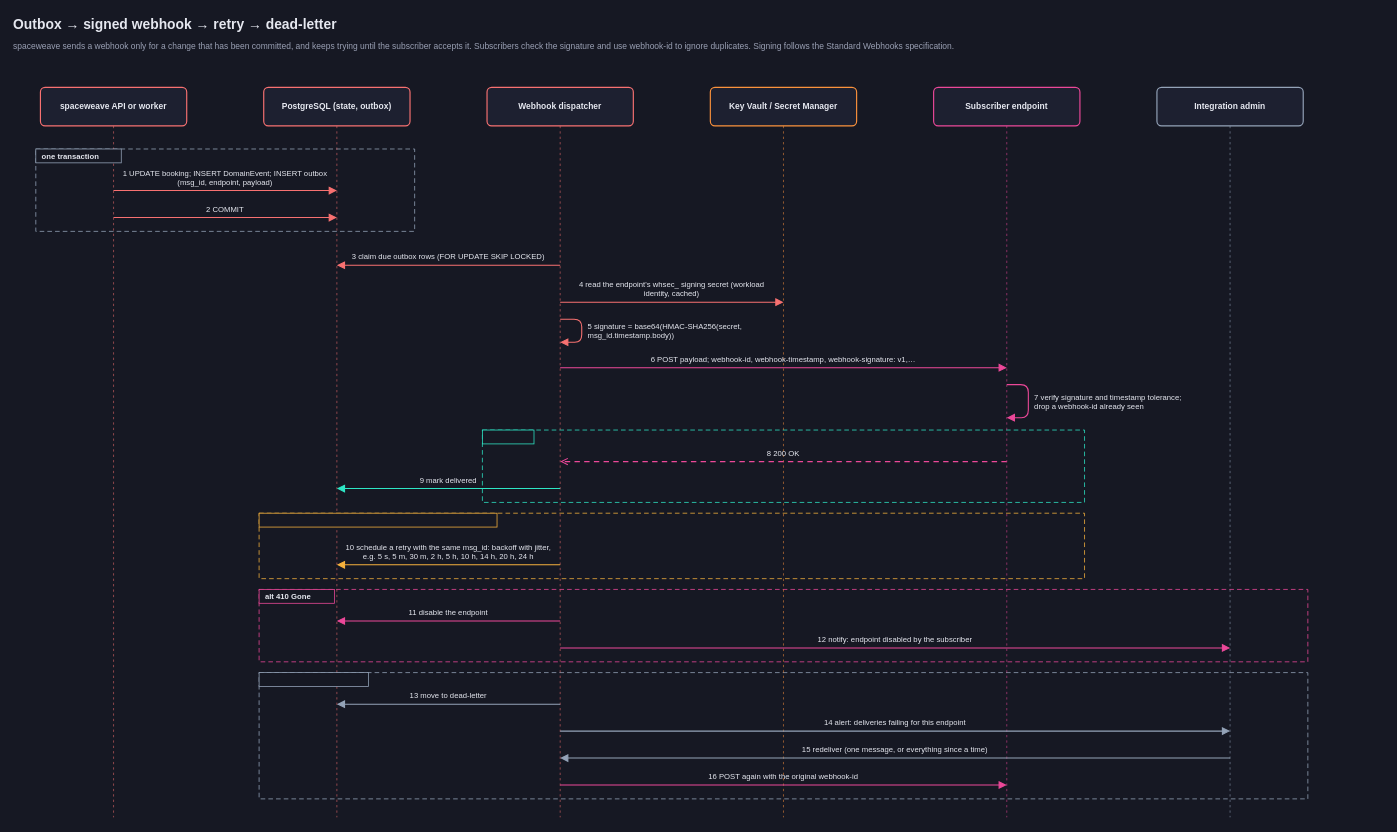
Image size: 1397x832. Some labels were removed from this diagram. The centre of each missing label's shape, as x and y in pixels:
after the last retry: pixel 313 679
alt 2xx: pixel 508 436
alt timeout, 5xx, 3xx, or 502 / 504 (throttle): pixel 377 519
